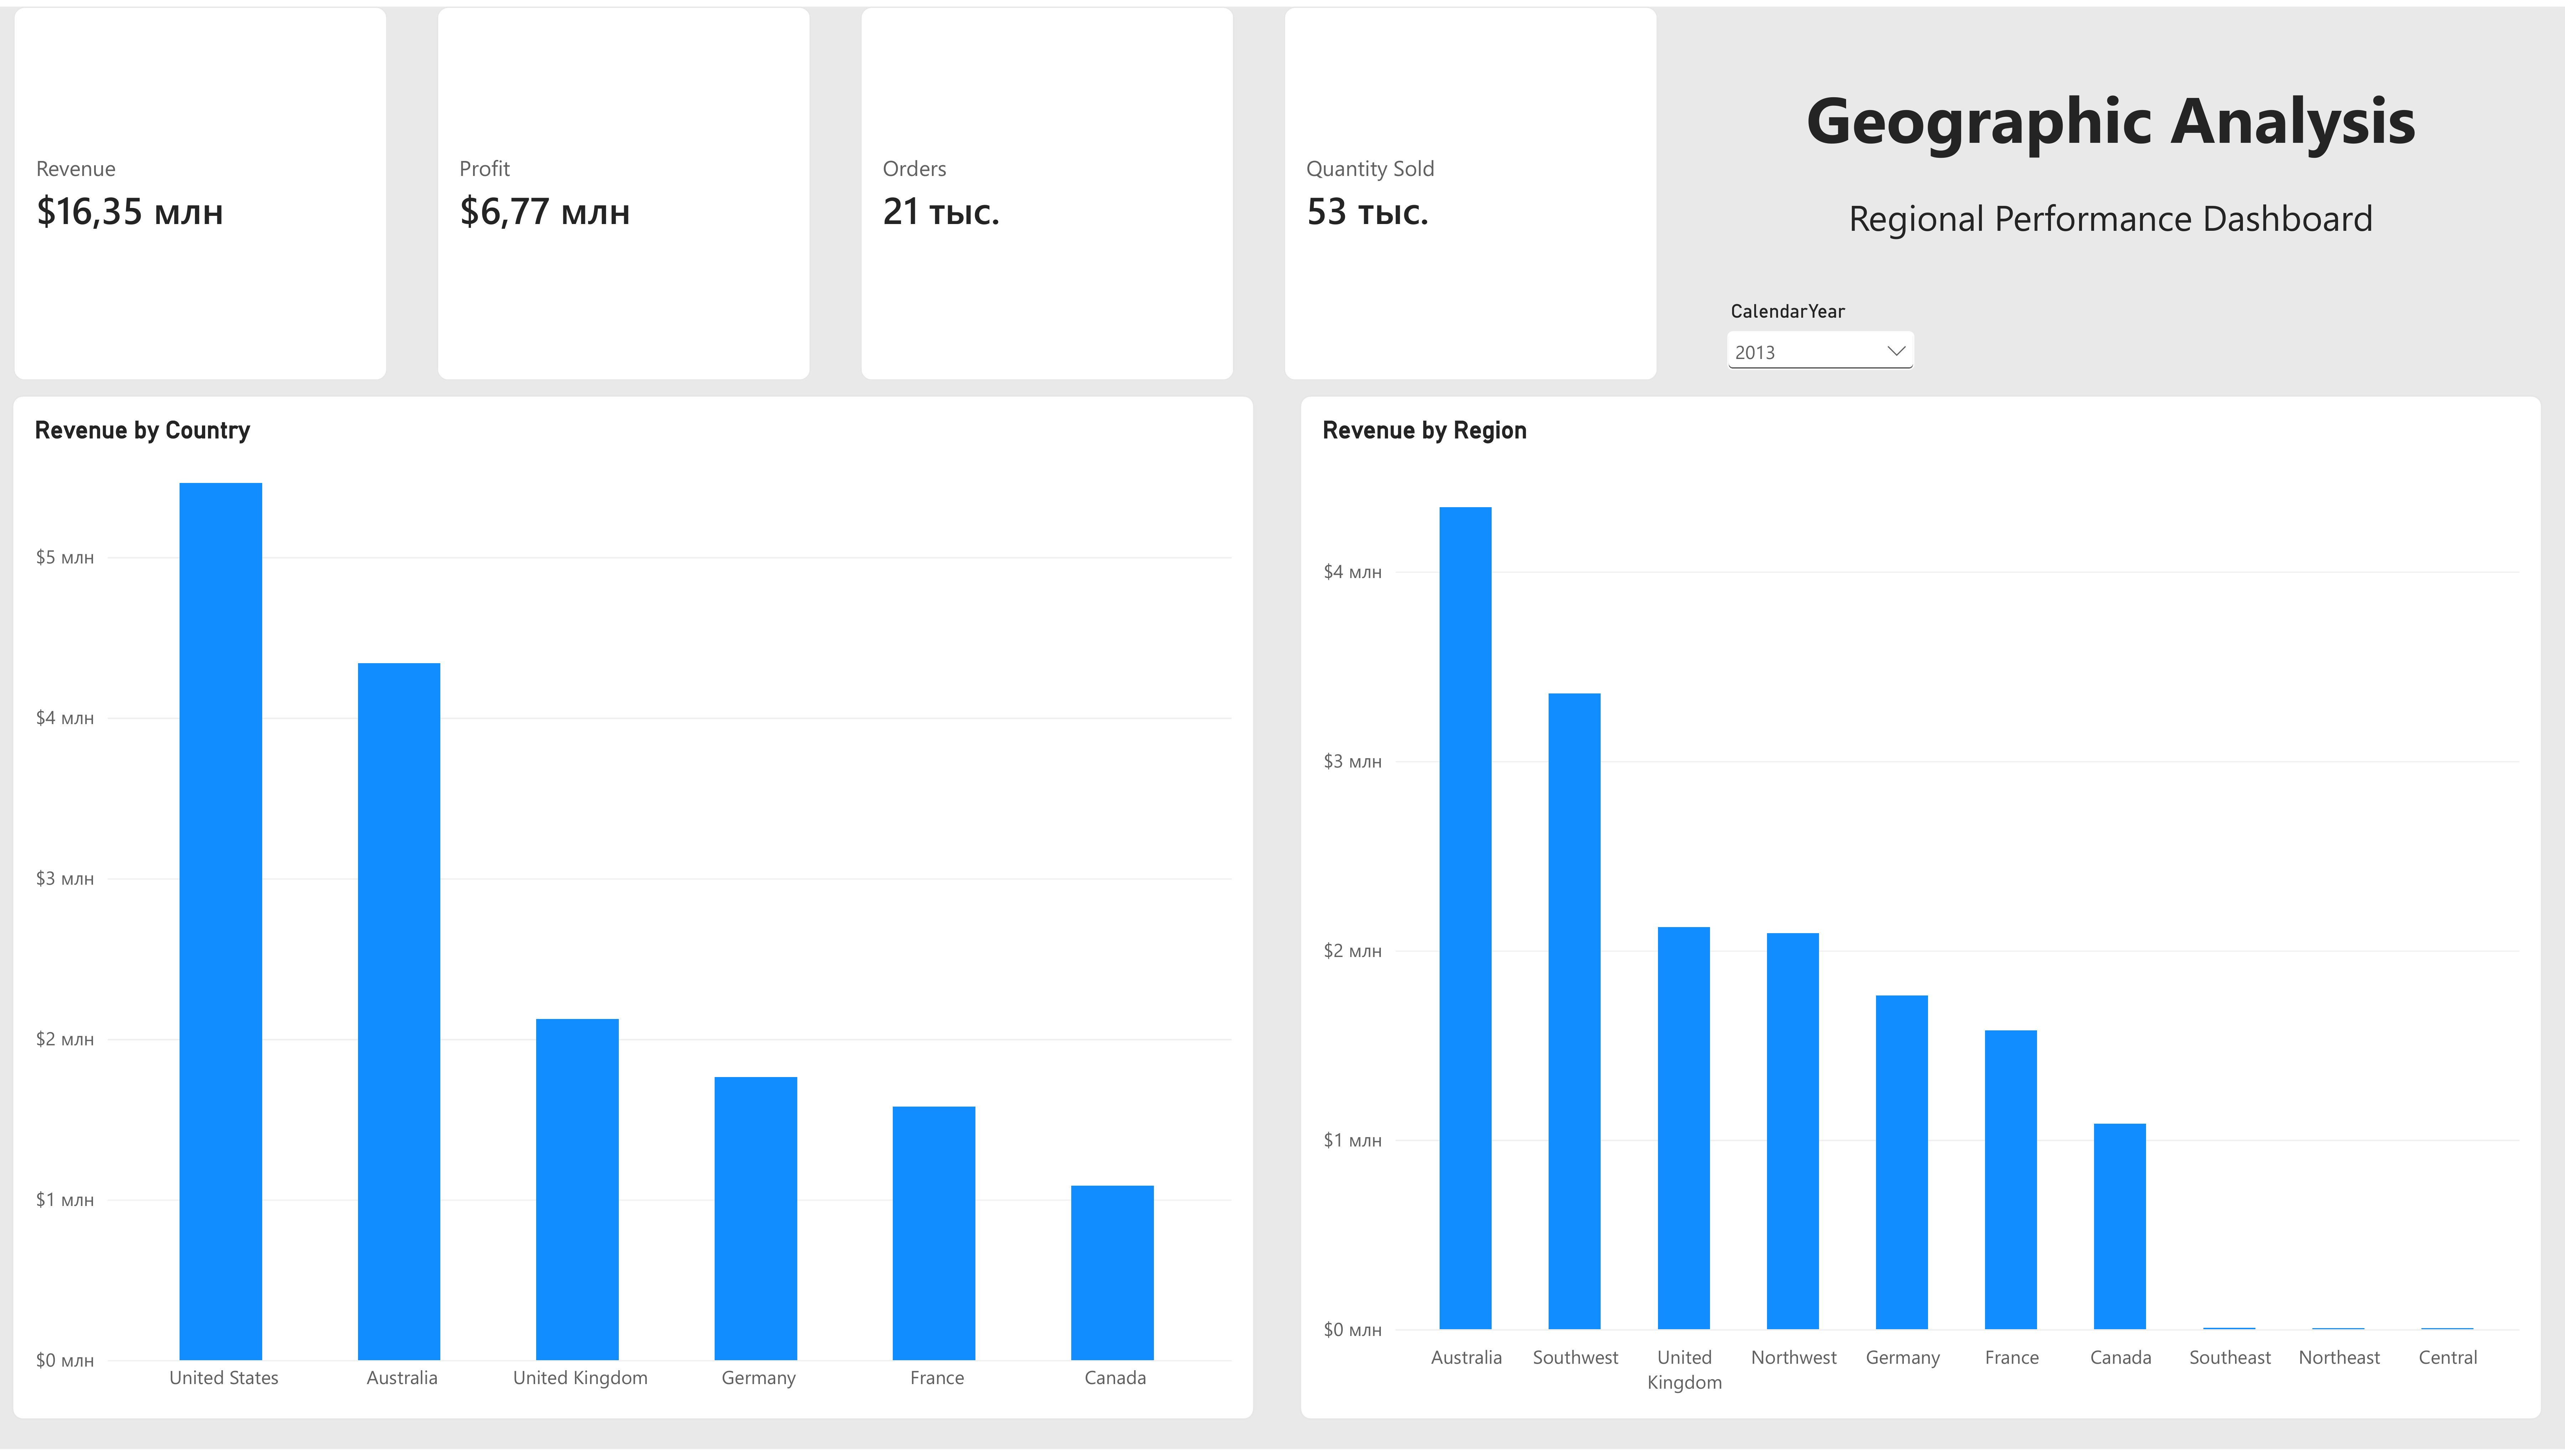

The dashboard page shown, as its layout file describes it:
{"tool":"powerbi","page":{"name":"Geographic Analysis","canvas":[1920,1080],"ordinal":3},"visuals":[{"type":"cardVisual","fields":{"Data":["FactInternetSales.Revenue"]},"box":[10,0,280,280],"z":0},{"type":"cardVisual","fields":{"Data":["FactInternetSales.Profit"]},"box":[326.9,0,280,280],"z":1000},{"type":"cardVisual","fields":{"Data":["FactInternetSales.Orders"]},"box":[643.8,0,280,280],"z":2000},{"type":"cardVisual","fields":{"Data":["FactInternetSales.Quantity Sold"]},"box":[960.8,0,280,280],"z":3000},{"type":"slicer","fields":{"Values":["DimDate.CalendarYear"]},"box":[1288.1,219.7,150,60],"z":4000},{"type":"columnChart","title":"Revenue by Country","fields":{"Category":["DimSalesTerritory.SalesTerritoryCountry"],"Y":["FactInternetSales.Revenue"]},"box":[9.1,291,930,766.8],"z":5000},{"type":"columnChart","title":"Revenue by Region","fields":{"Category":["DimSalesTerritory.SalesTerritoryRegion"],"Y":["FactInternetSales.Revenue"]},"box":[972.9,291,930,766.8],"z":6000},{"type":"textbox","box":[1241.1,50,678.9,89.4],"z":7000},{"type":"textbox","box":[1241.1,139.4,678.9,66.7],"z":8000}]}

Visuals, with their boxes in screenshot pixels (x1, y1, x2, y2), scaled from the page's 1920x1080 canvas onto the 2565x1456 screenshot:
cardVisual - FactInternetSales.Revenue: [left=14, top=0, right=388, bottom=378]
cardVisual - FactInternetSales.Profit: [left=437, top=0, right=811, bottom=378]
cardVisual - FactInternetSales.Orders: [left=860, top=0, right=1234, bottom=378]
cardVisual - FactInternetSales.Quantity Sold: [left=1284, top=0, right=1658, bottom=378]
slicer - DimDate.CalendarYear: [left=1721, top=296, right=1921, bottom=377]
"Revenue by Country" columnChart: [left=12, top=392, right=1255, bottom=1426]
"Revenue by Region" columnChart: [left=1300, top=392, right=2542, bottom=1426]
textbox: [left=1658, top=67, right=2565, bottom=188]
textbox: [left=1658, top=188, right=2565, bottom=278]
